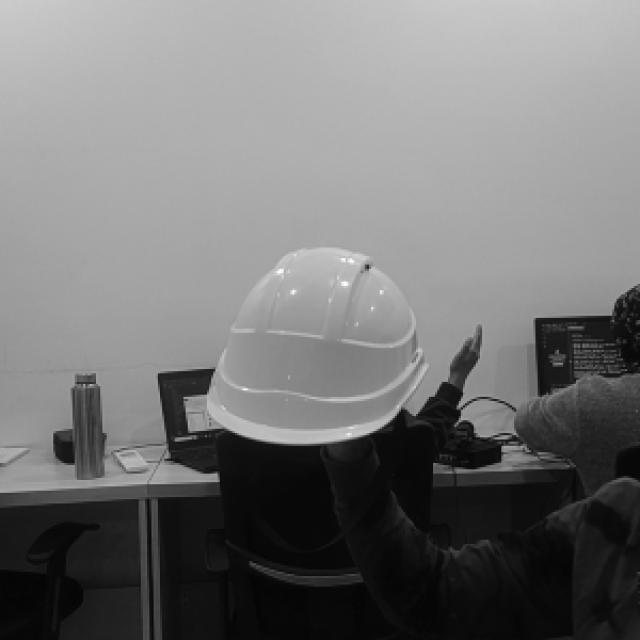safety_helmet: (205, 248, 429, 442)
